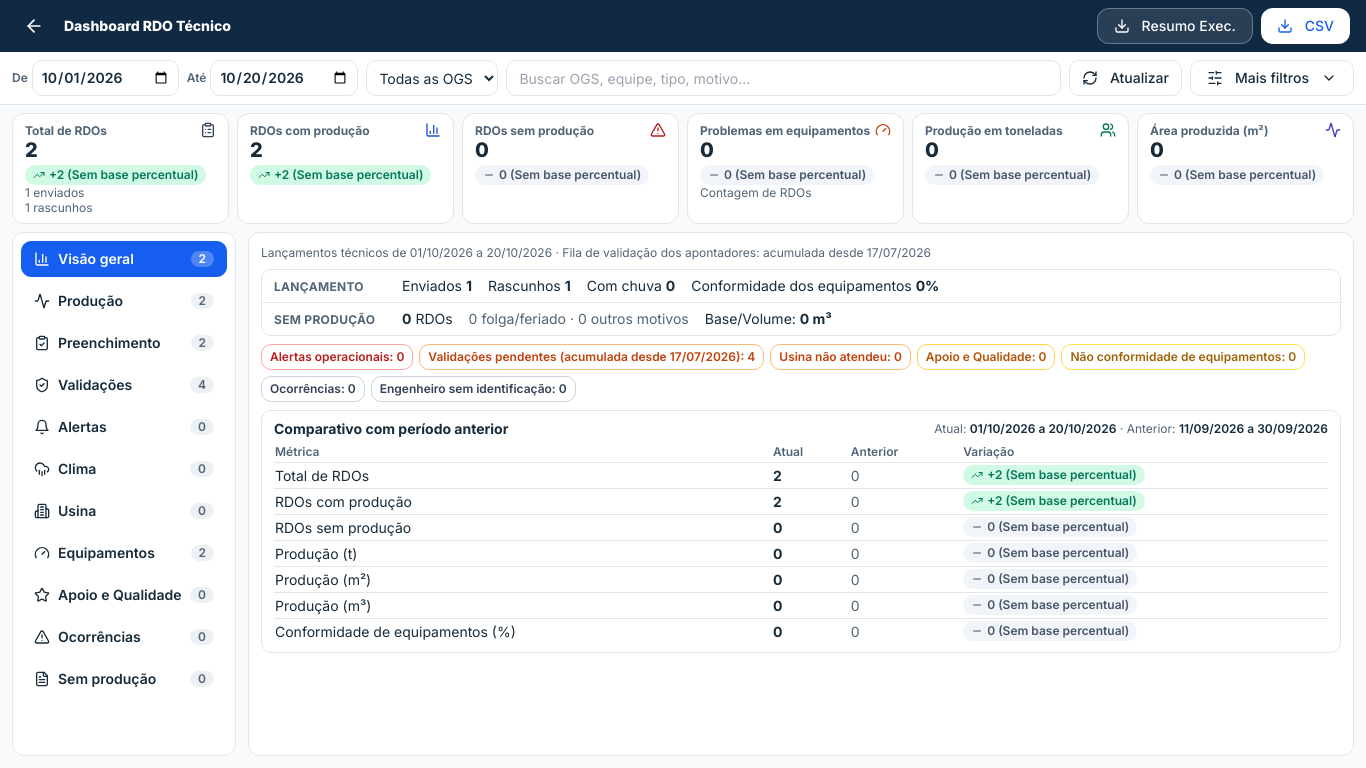
Test case: Dashboard Técnico — fase 2 › concilia total, responsáveis inclusive inativos e pendências sem ID sem atribuir pelo nome
Click the button "Validações 4".
click(124, 385)  # box [21,367,227,403]
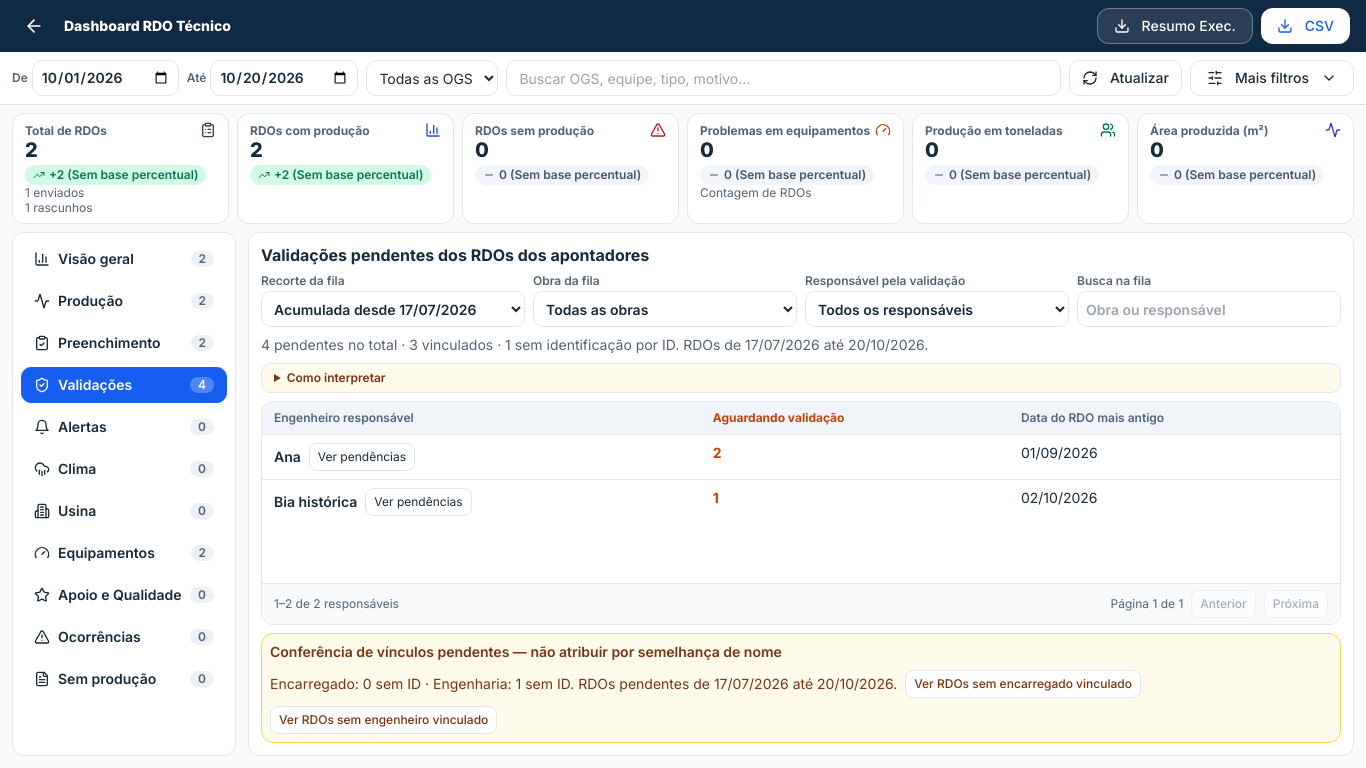
Check: the text with test id "total-fila-validacao" shows "4 pendentes no total · 3 vinculados · 1 sem identificação por ID", box [261,336,928,353]
Check: the text "Conferência de vínculos pendentes" is shown, box [270,643,782,660]
